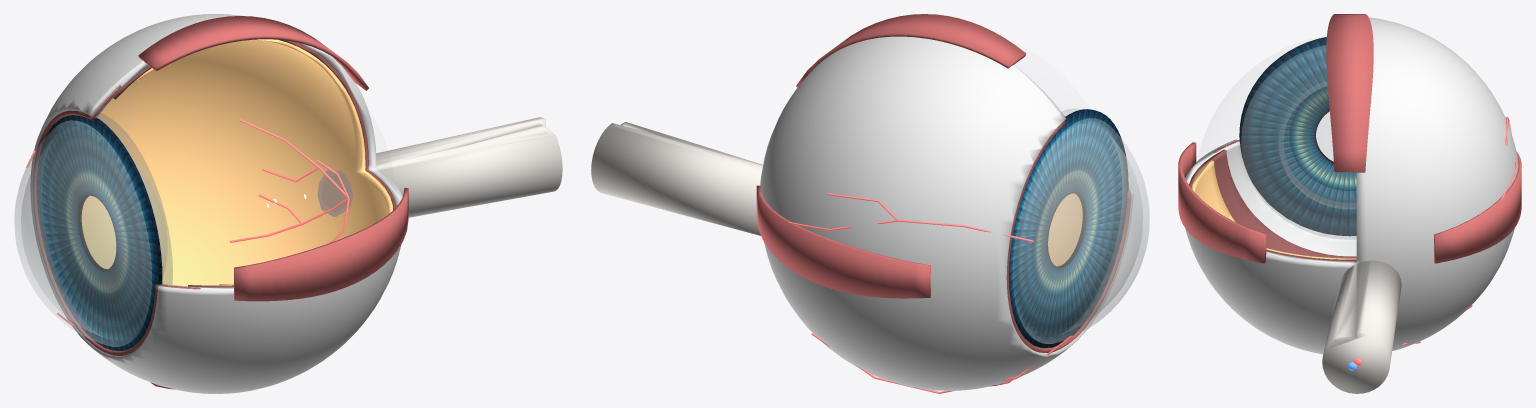
Rendered from human_eye.glb.
3 views of the same model, side by side, from view 1: azimuth 30°, elevation 25°; view 2: azimuth 150°, elevation 25°; view 3: azimuth 270°, elevation 25° (orthographic). The views are drawn at different scales.
Parts seen in each view (by area): view 1: Retina, Sclera, Cornea, Iris_Pupil, Eye_Muscles, Optic_Nerve, Zonules, Ciliary_Body, Retina_Vessels, Choroid, Edema_Swelling, Lens (+1 smaller); view 2: Sclera, Cornea, Iris_Pupil, Optic_Nerve, Eye_Muscles, Retina, Ciliary_Body, Sclera_Vessels; view 3: Sclera, Iris_Pupil, Eye_Muscles, Zonules, Optic_Nerve, Lens, Choroid, Retina.
Part boxes in pixels (left/top/right/bottom): Retina: left=81, top=39, right=392, bottom=286; Sclera: left=30, top=14, right=402, bottom=393; Cornea: left=14, top=120, right=151, bottom=346; Iris_Pupil: left=37, top=115, right=162, bottom=350; Eye_Muscles: left=138, top=16, right=408, bottom=389; Optic_Nerve: left=370, top=117, right=562, bottom=217; Zonules: left=97, top=113, right=172, bottom=284; Ciliary_Body: left=33, top=85, right=200, bottom=355; Retina_Vessels: left=230, top=119, right=349, bottom=242; Choroid: left=113, top=39, right=396, bottom=287; Edema_Swelling: left=317, top=170, right=352, bottom=216; Lens: left=135, top=164, right=166, bottom=274; Sclera: left=760, top=36, right=1133, bottom=390; Cornea: left=1013, top=118, right=1149, bottom=343; Iris_Pupil: left=1009, top=109, right=1128, bottom=347; Optic_Nerve: left=591, top=122, right=762, bottom=235; Eye_Muscles: left=756, top=14, right=1065, bottom=386; Retina: left=1048, top=193, right=1082, bottom=266; Ciliary_Body: left=1006, top=120, right=1130, bottom=352; Sclera_Vessels: left=787, top=193, right=1072, bottom=393; Sclera: left=1185, top=17, right=1518, bottom=354; Iris_Pupil: left=1239, top=37, right=1356, bottom=236; Eye_Muscles: left=1178, top=14, right=1521, bottom=263; Zonules: left=1241, top=45, right=1356, bottom=239; Optic_Nerve: left=1322, top=260, right=1401, bottom=393; Lens: left=1279, top=81, right=1356, bottom=208; Choroid: left=1189, top=149, right=1356, bottom=261; Retina: left=1191, top=160, right=1356, bottom=259.
Bounding box in the file's own units: 3.16 × 2.02 × 2.02.
20 materials, 1 textured.
